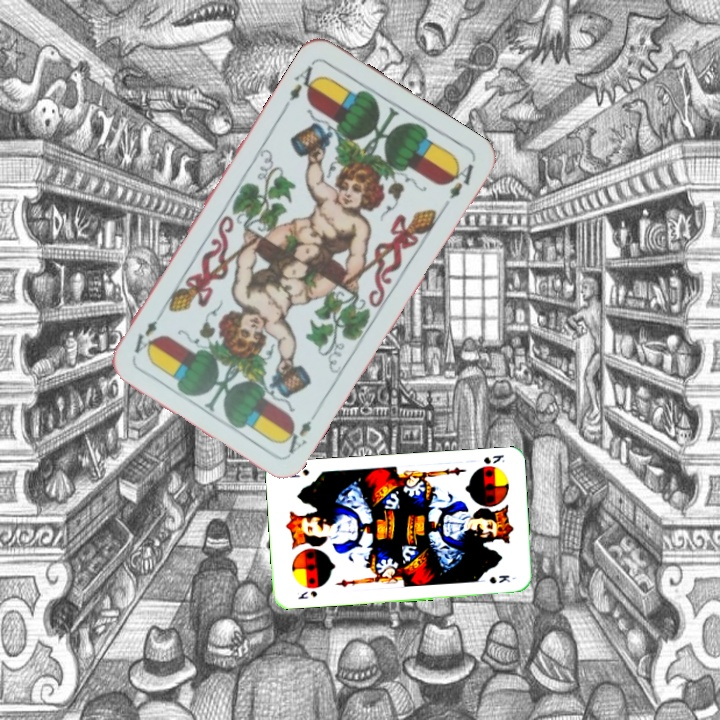EA: (279, 58, 324, 111), (278, 406, 322, 457)
SK: (293, 587, 320, 602), (480, 451, 507, 466)
